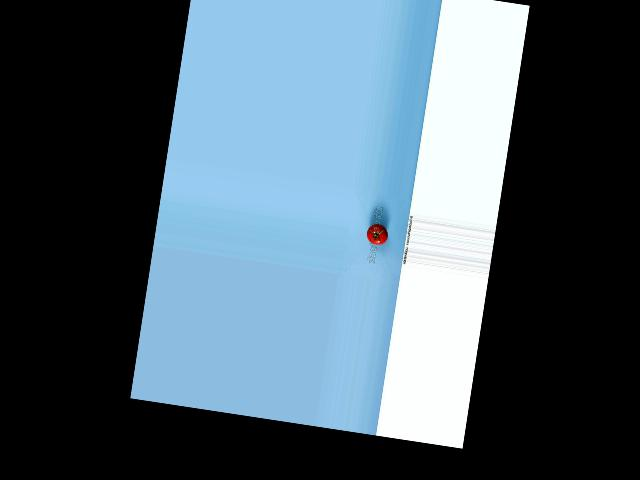tomato: (365, 223, 390, 246)
